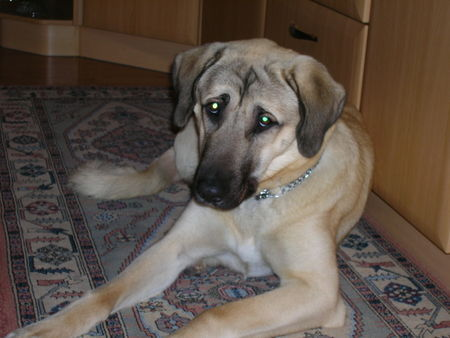kangal: (4, 37, 374, 338)
